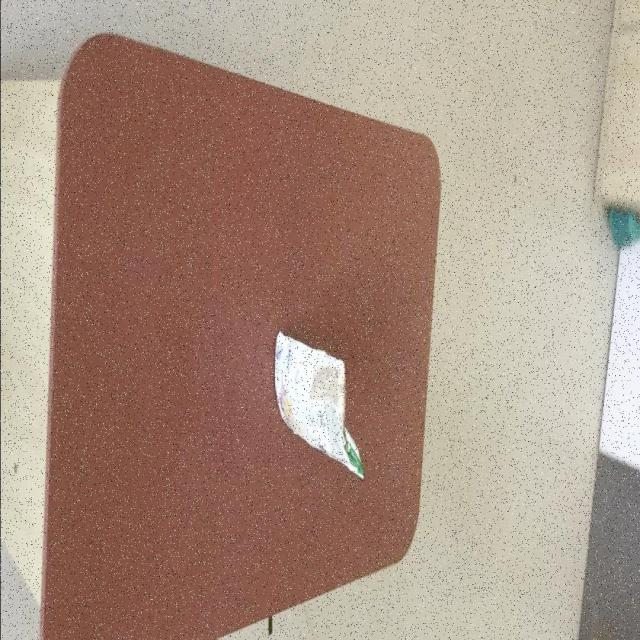CornFlakes: (273, 327, 365, 478)
